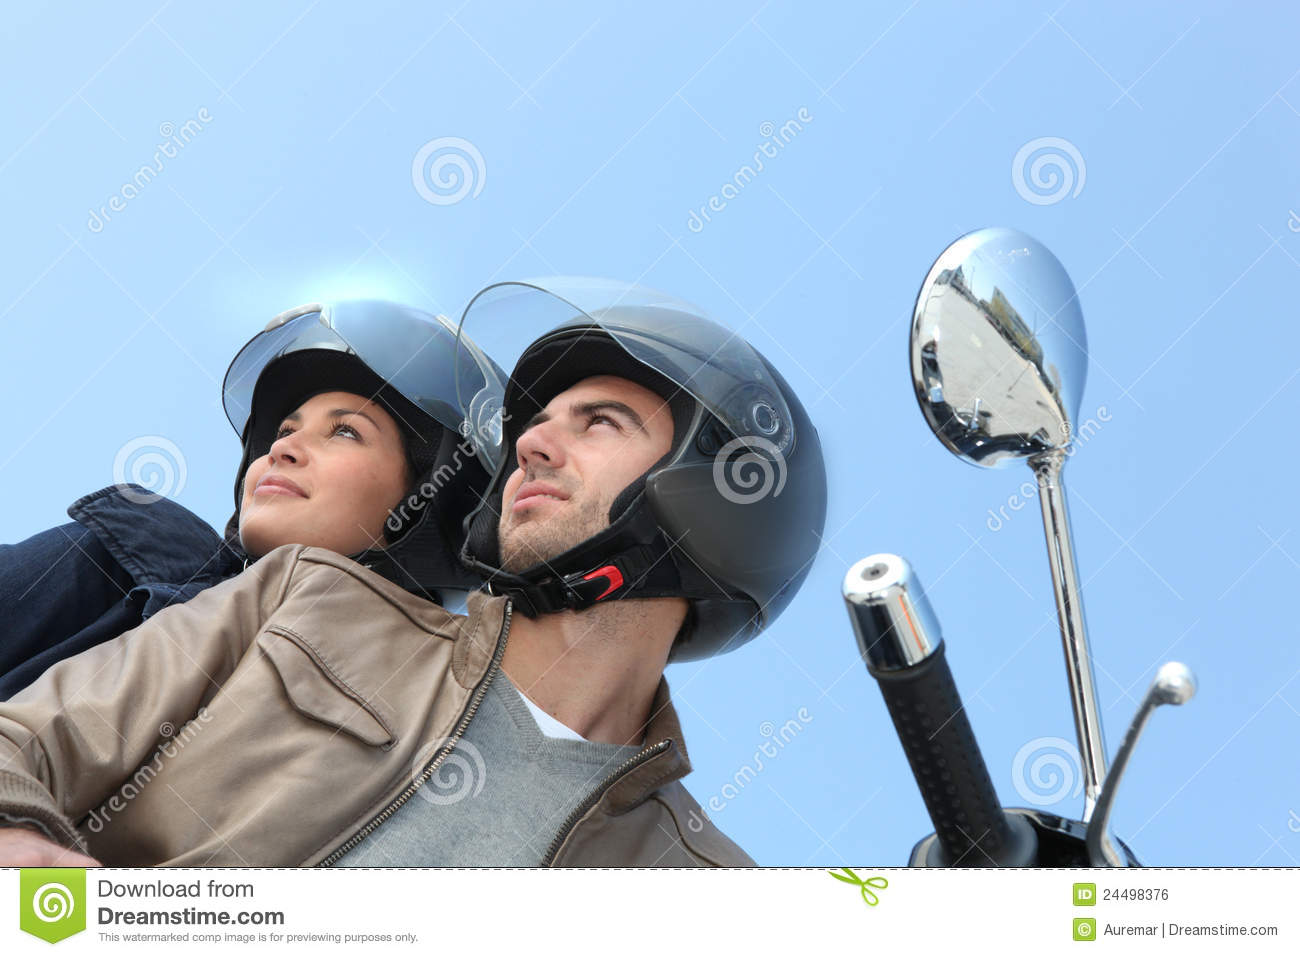helmet: (515, 316, 818, 589), (270, 302, 499, 519)
